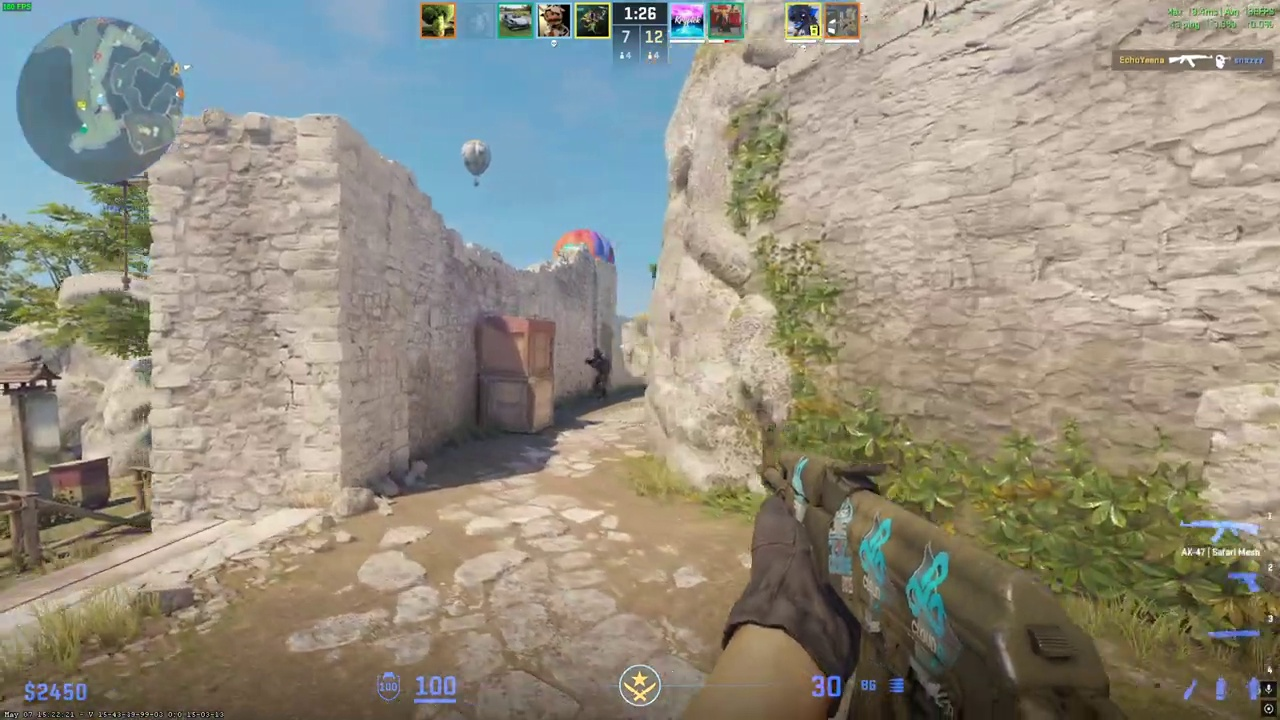CT: (586, 348, 613, 397)
